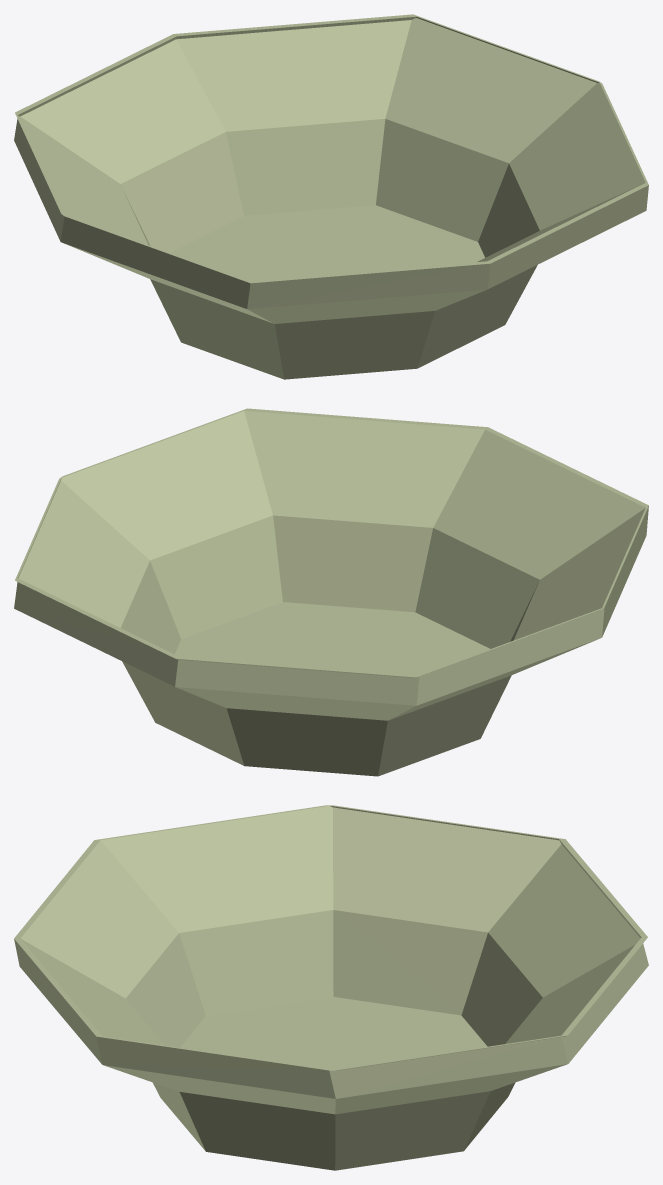
File: Kitchen_2_Plate_2.fbx
3 renders of one model, top to bottom at view 1: azimuth 30°, elevation 25°; view 2: azimuth 150°, elevation 25°; view 3: azimuth 270°, elevation 25°, orthographic.
Parts seen in each view (by area): view 1: Kitchen_2_Plate_2; view 2: Kitchen_2_Plate_2; view 3: Kitchen_2_Plate_2.
Boxes of the visible parts, x1,y1,x2,y2 form: Kitchen_2_Plate_2: (14, 14, 648, 379); Kitchen_2_Plate_2: (14, 408, 648, 776); Kitchen_2_Plate_2: (14, 805, 648, 1170).
Bounding box in the file's own units: 28.77 × 8.08 × 29.03.
